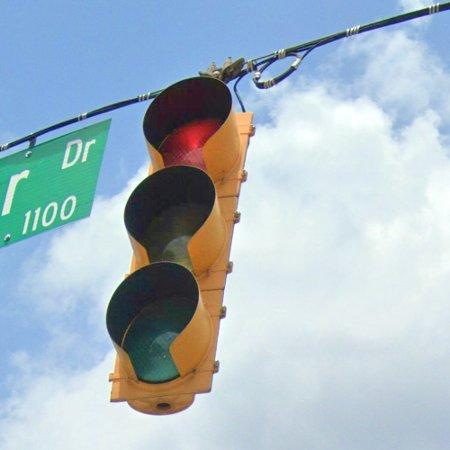traffic lights: (106, 76, 255, 415)
